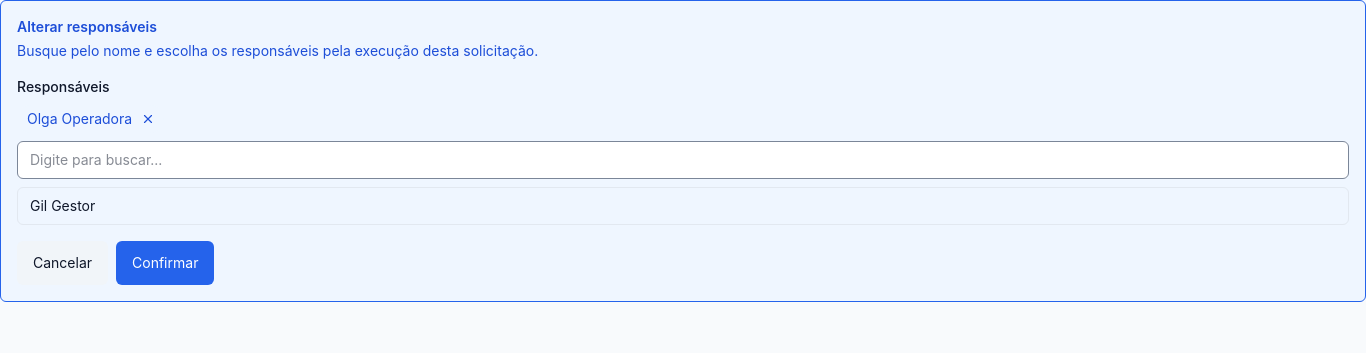
Scenario: ResponsaveisAction › deve mostrar o erro no formulário sem fechá-lo quando a API recusa a alteração
Click the button "Confirmar": (165, 263) [116,241,214,285]
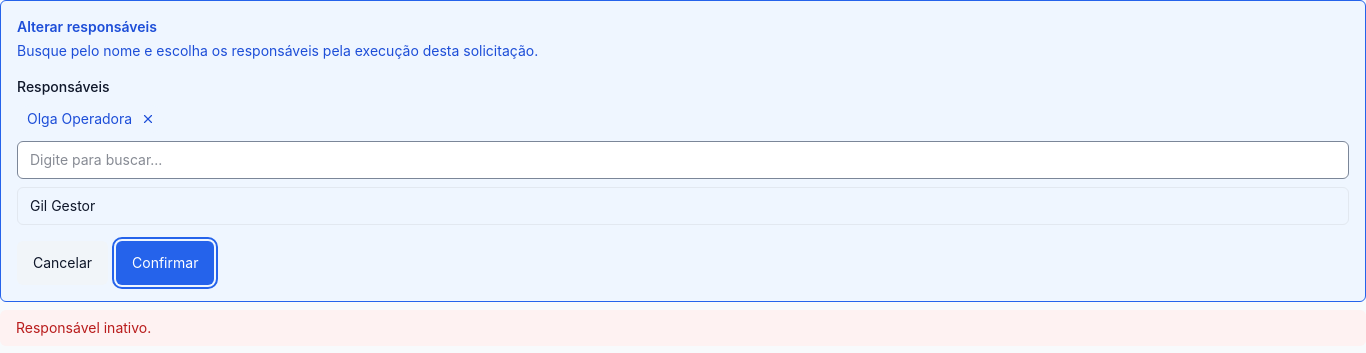
expect the message reads "Responsável inativo.": met, box [16,319,151,336]
